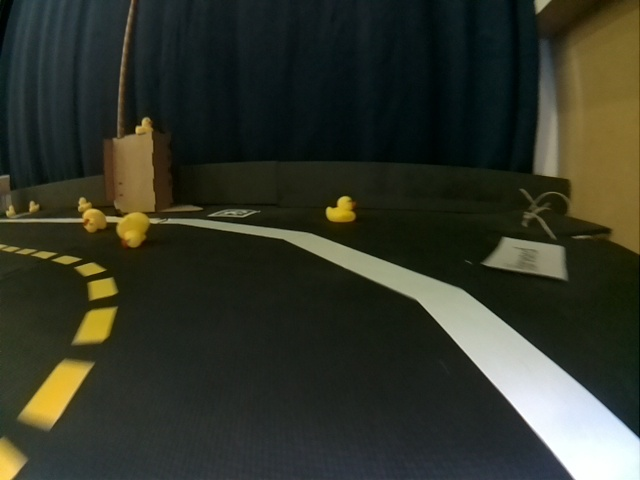Duckie: (116, 213, 146, 247), (325, 197, 357, 222), (81, 210, 105, 233), (136, 117, 151, 133), (78, 197, 91, 212), (6, 205, 16, 218), (29, 200, 37, 210)
QR code: (209, 208, 259, 218)
